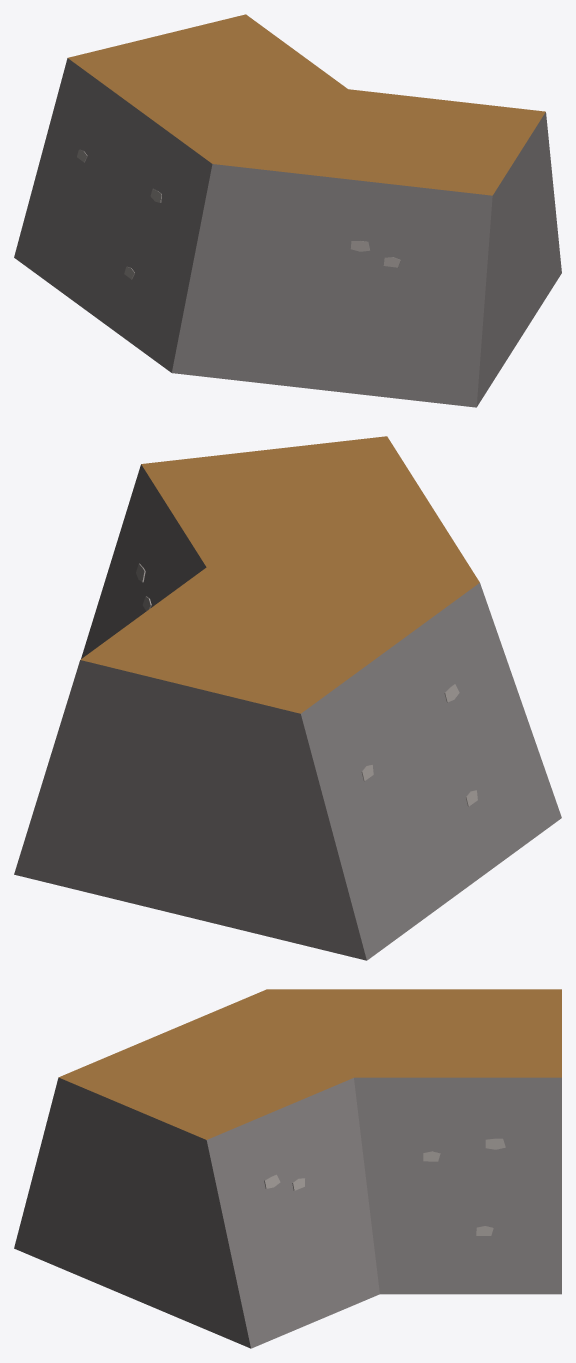
Rendered from base-japan-elbow-medium.glb.
3 renders of one model, top to bottom at view 1: azimuth 30°, elevation 25°; view 2: azimuth 150°, elevation 25°; view 3: azimuth 270°, elevation 25°, orthographic. The views are drawn at different scales.
Visible parts, largest first — view 1: base-japan-elbow_medium; view 2: base-japan-elbow_medium; view 3: base-japan-elbow_medium.
Boxes of the visible parts, x1=… form: base-japan-elbow_medium: x1=14, y1=14, x2=561, y2=407; base-japan-elbow_medium: x1=14, y1=436, x2=561, y2=960; base-japan-elbow_medium: x1=14, y1=989, x2=561, y2=1348.
Bounding box in the file's own units: 22.15 × 10 × 26.15.
1 material, 1 textured.
